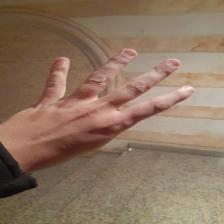four: (25, 49, 199, 152)
